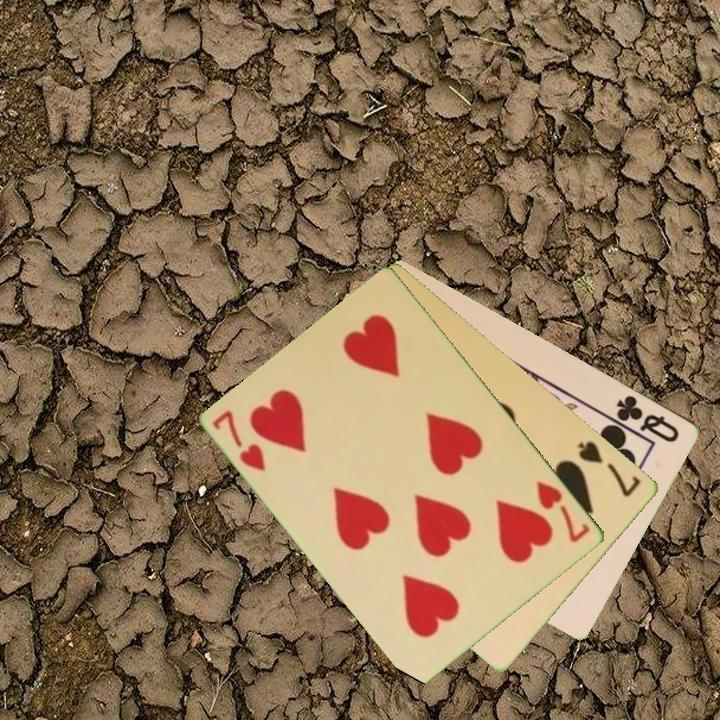7h: (533, 477, 594, 546), (209, 407, 269, 475)
7s: (574, 437, 645, 500)
Qc: (613, 391, 683, 446)
